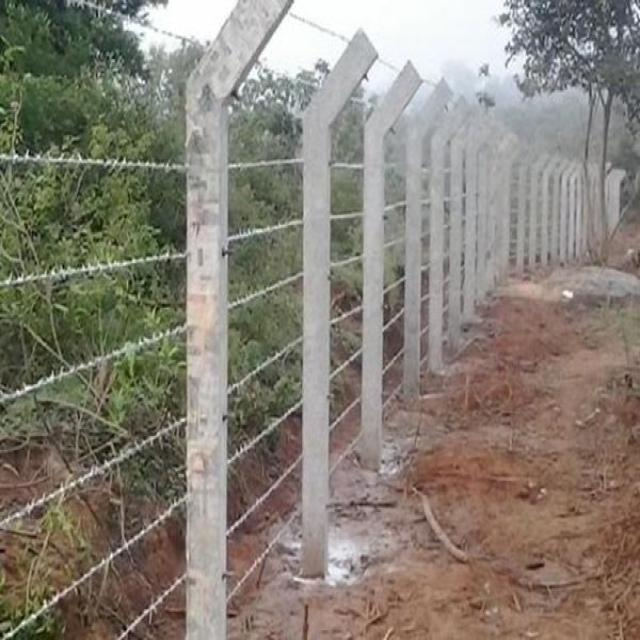fence: (0, 0, 468, 636)
